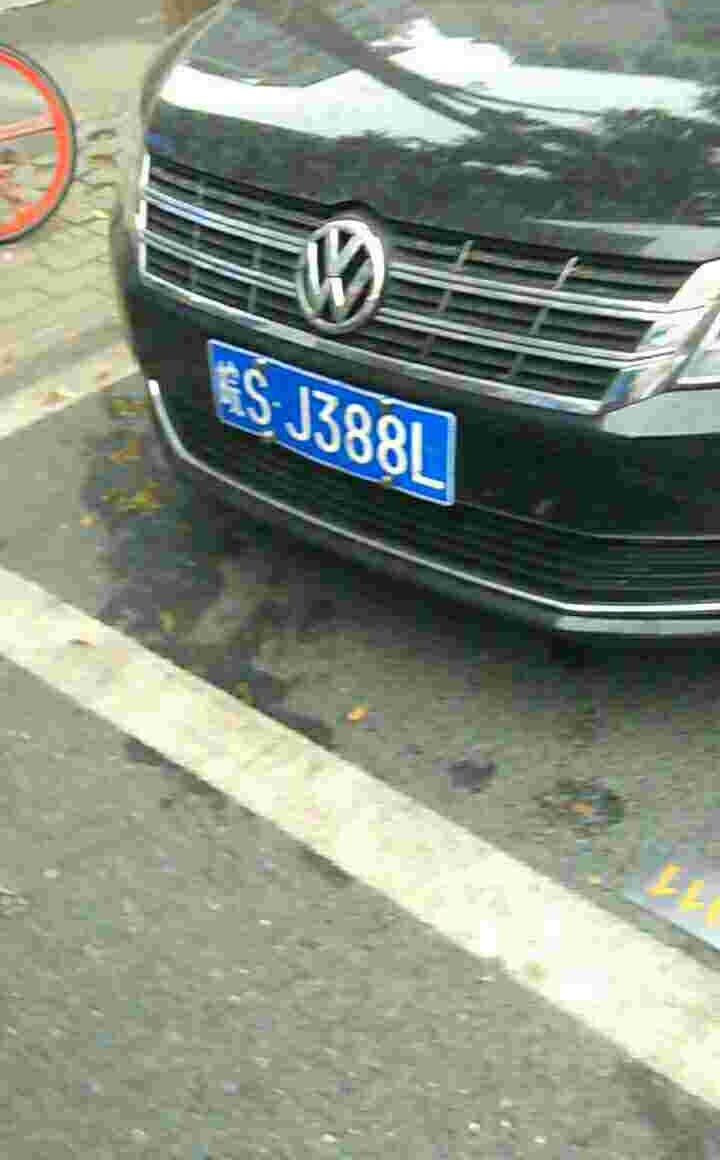license_plate: (198, 357, 447, 508)
